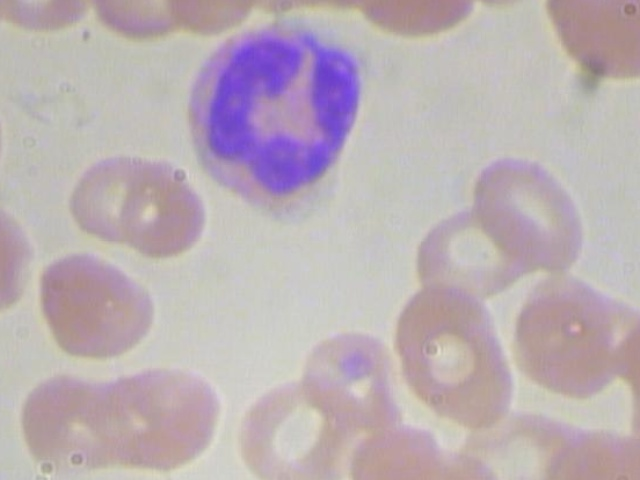RBC: (386, 281, 526, 433), (466, 148, 594, 277), (409, 183, 537, 312), (507, 275, 635, 404), (31, 243, 164, 361), (94, 360, 223, 474), (8, 363, 137, 477), (232, 367, 360, 480), (291, 329, 418, 436), (65, 147, 189, 241), (109, 163, 210, 262), (542, 0, 640, 83), (0, 84, 7, 189)
WBC: (159, 14, 398, 233)
